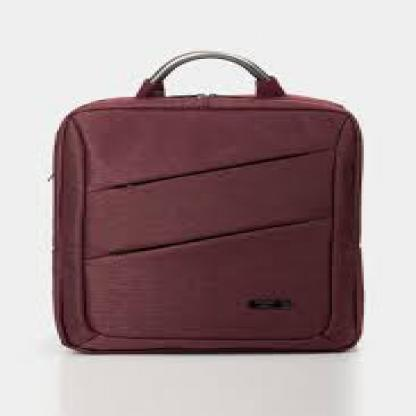morral: (38, 26, 388, 367)
